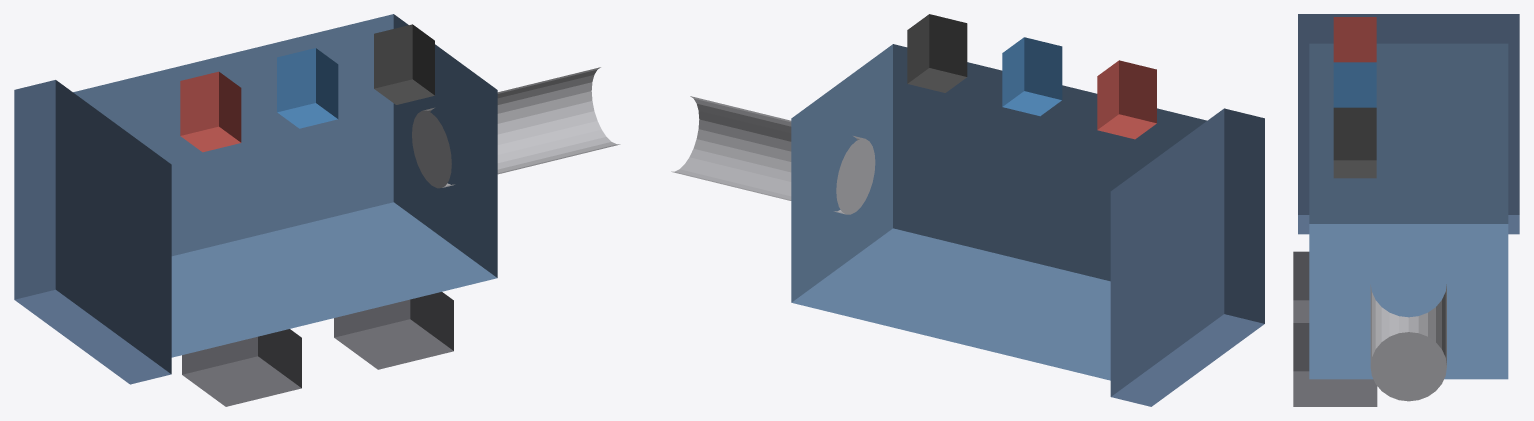
The model's file is generic-actuator.glb.
3 views of the same model, side by side, from view 1: azimuth 30°, elevation 25°; view 2: azimuth 150°, elevation 25°; view 3: azimuth 270°, elevation 25° (orthographic). The views are drawn at different scales.
Parts seen in each view (by area): view 1: Generic PWM Actuator; view 2: Generic PWM Actuator; view 3: Generic PWM Actuator.
Part boxes in pixels (x1,y1,x2,y2): Generic PWM Actuator: (14, 14, 620, 406); Generic PWM Actuator: (671, 14, 1264, 406); Generic PWM Actuator: (1293, 14, 1519, 406).
Size of the model in its own units: 3.9 by 2.03 by 1.48.
